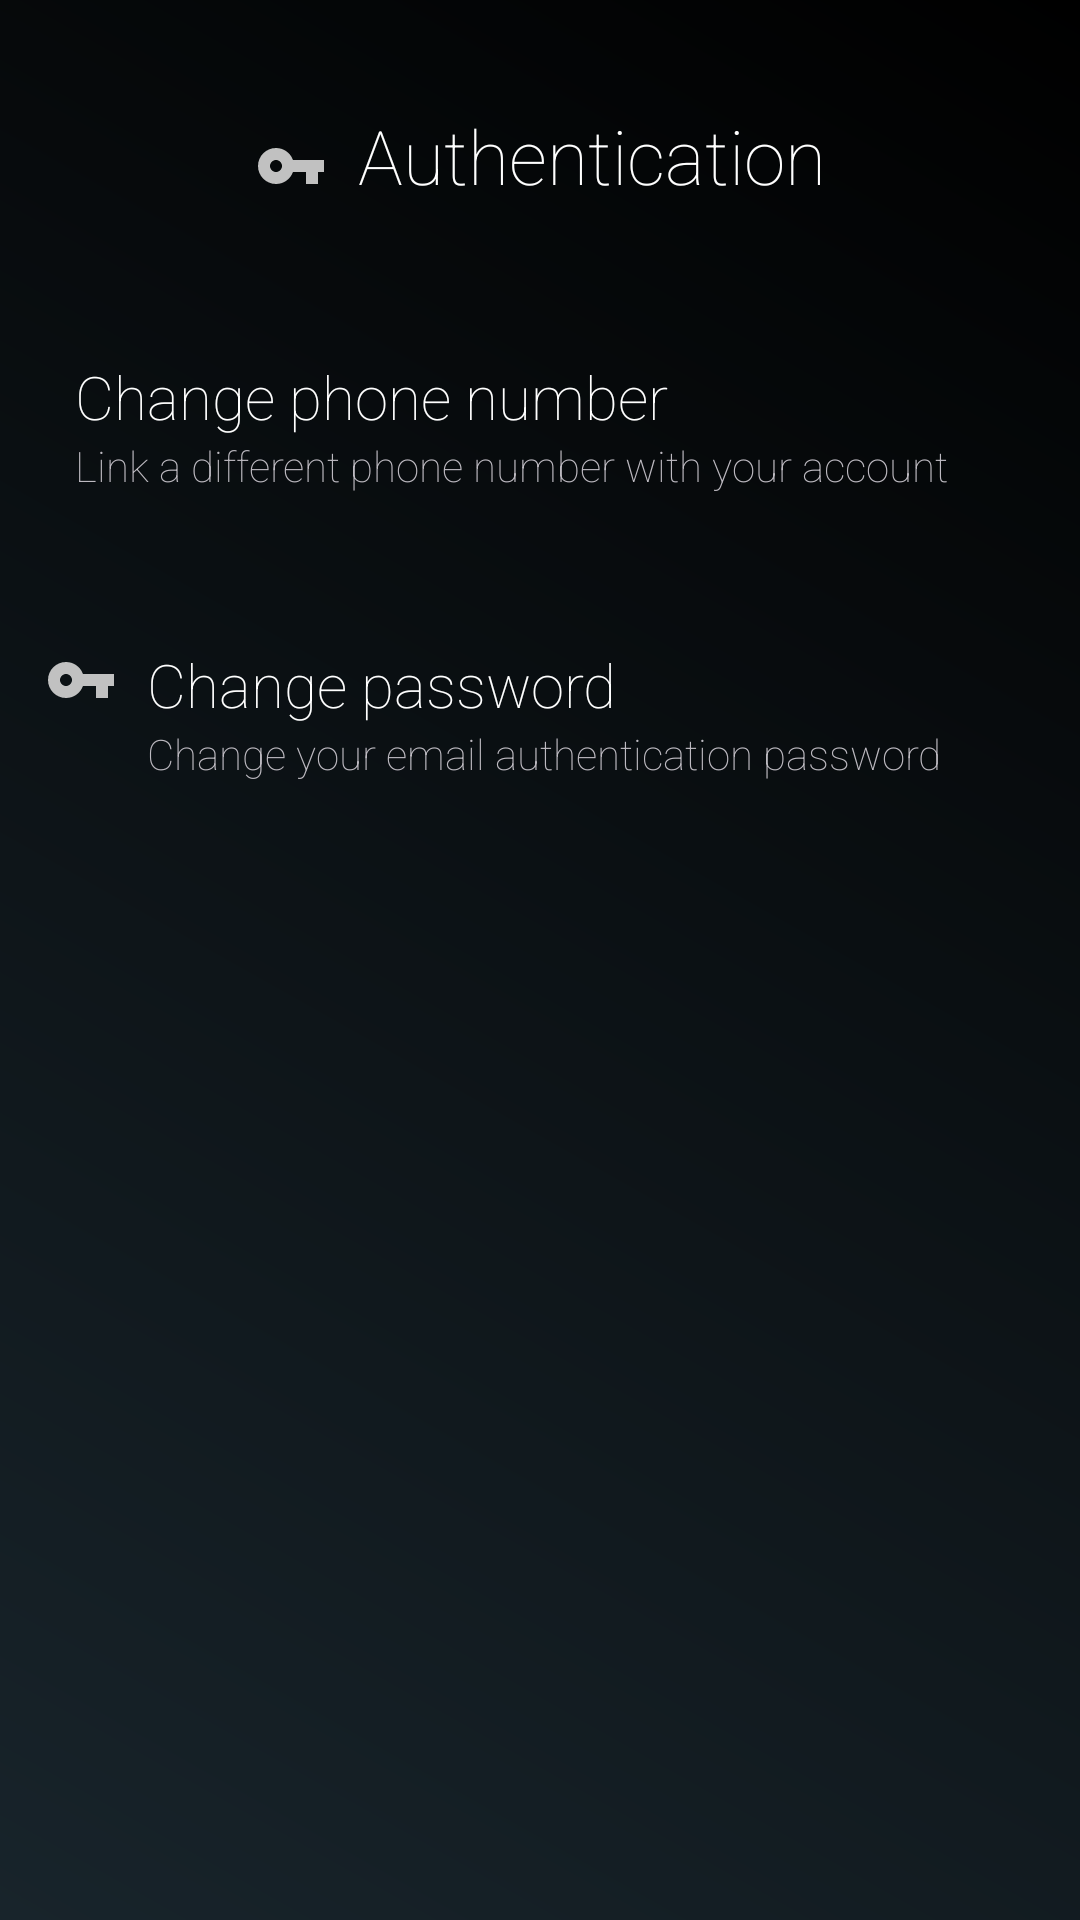

Named icons in this screenshot (1080px×1920px) and their bounding boxes, (x1, y1, x2, y2):
vpn key: (258, 148, 324, 184), (48, 662, 114, 698)
